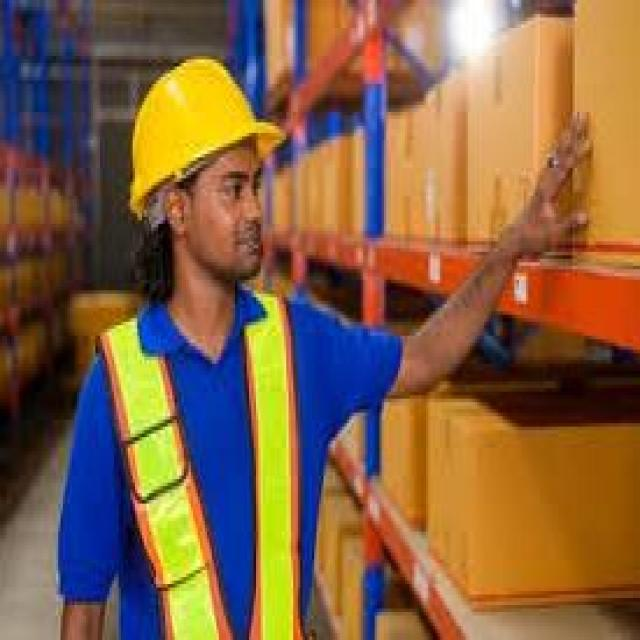Reflective-Jacket: (84, 280, 386, 633)
Safety-Helmet: (124, 49, 286, 213)
